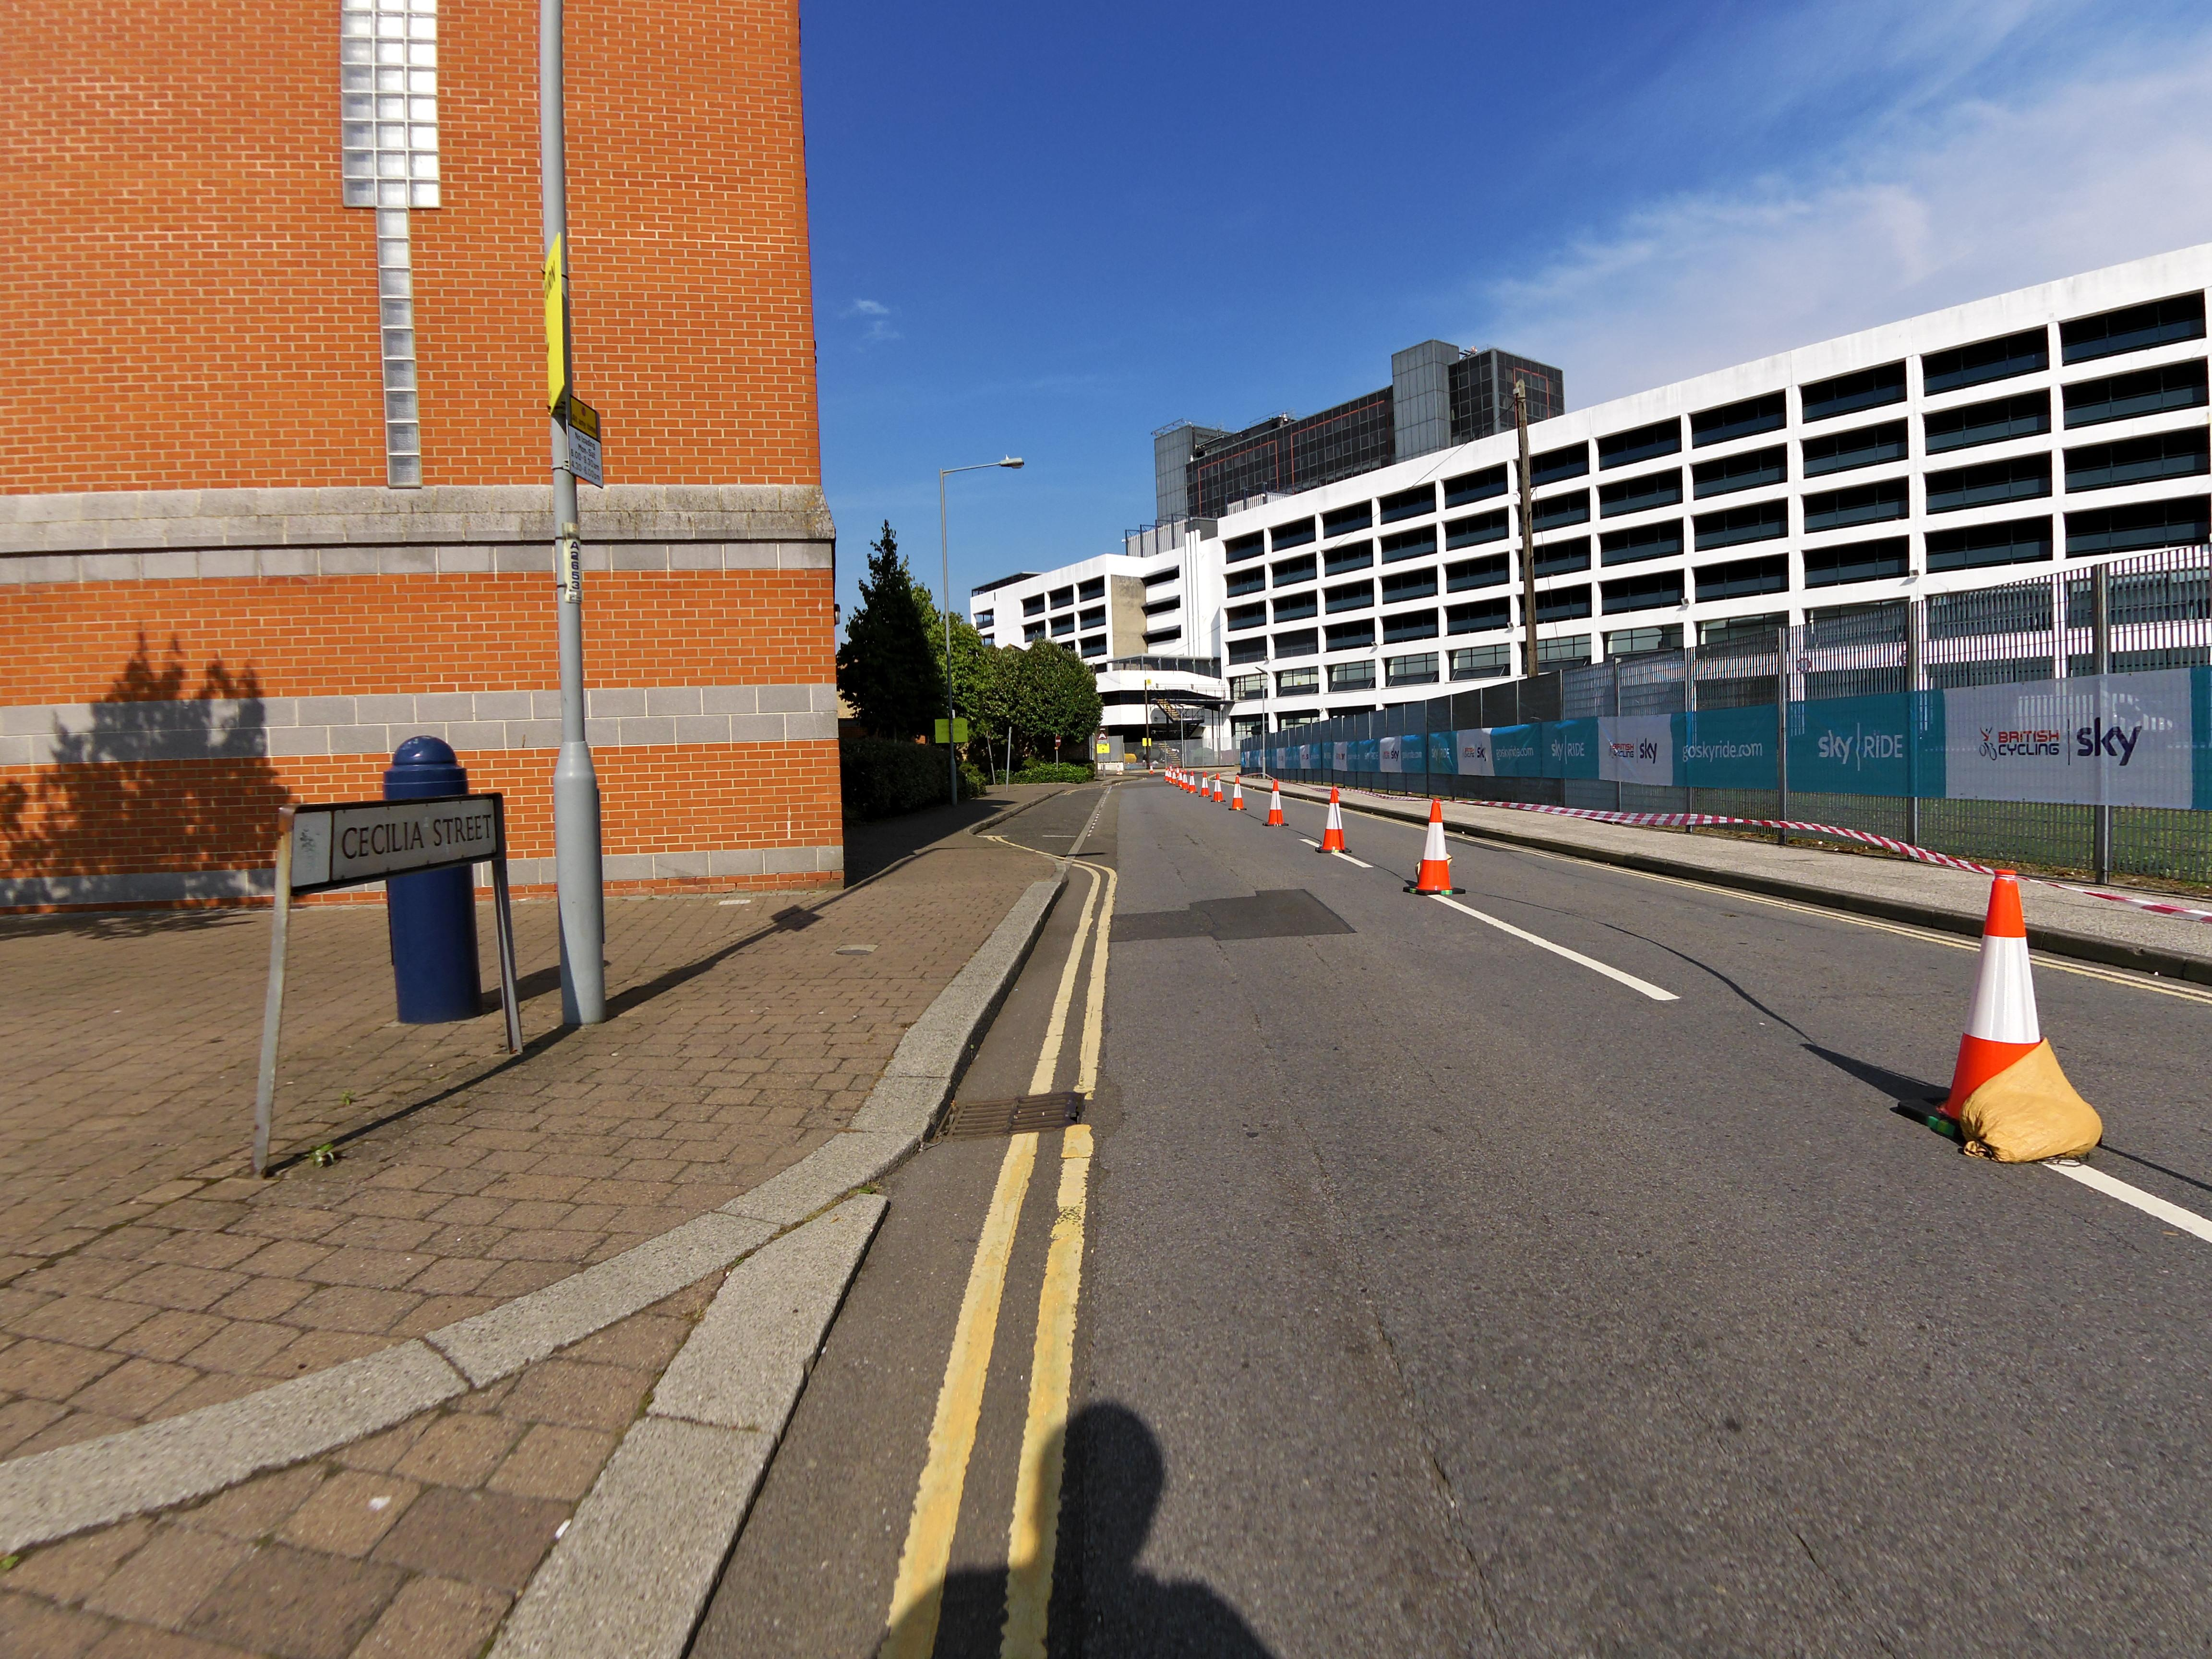vinyl banner: (1778, 650, 2212, 819), (1533, 697, 1777, 789), (1240, 730, 1472, 781), (1426, 713, 1543, 781)
